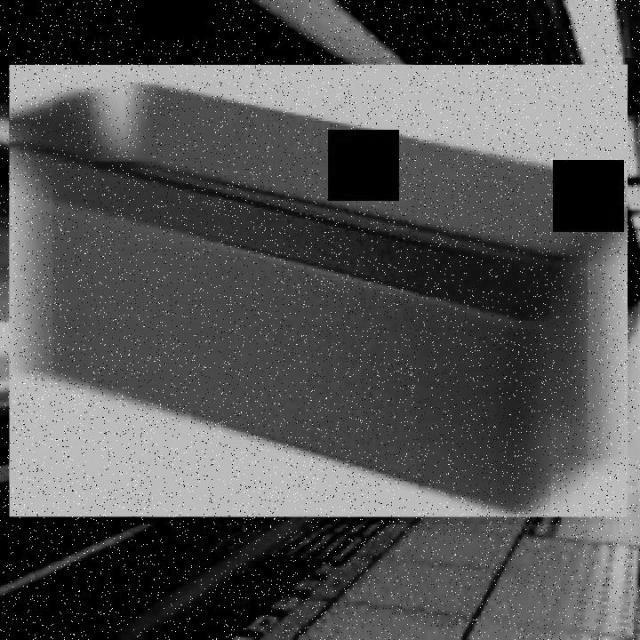box: (0, 58, 638, 524)
